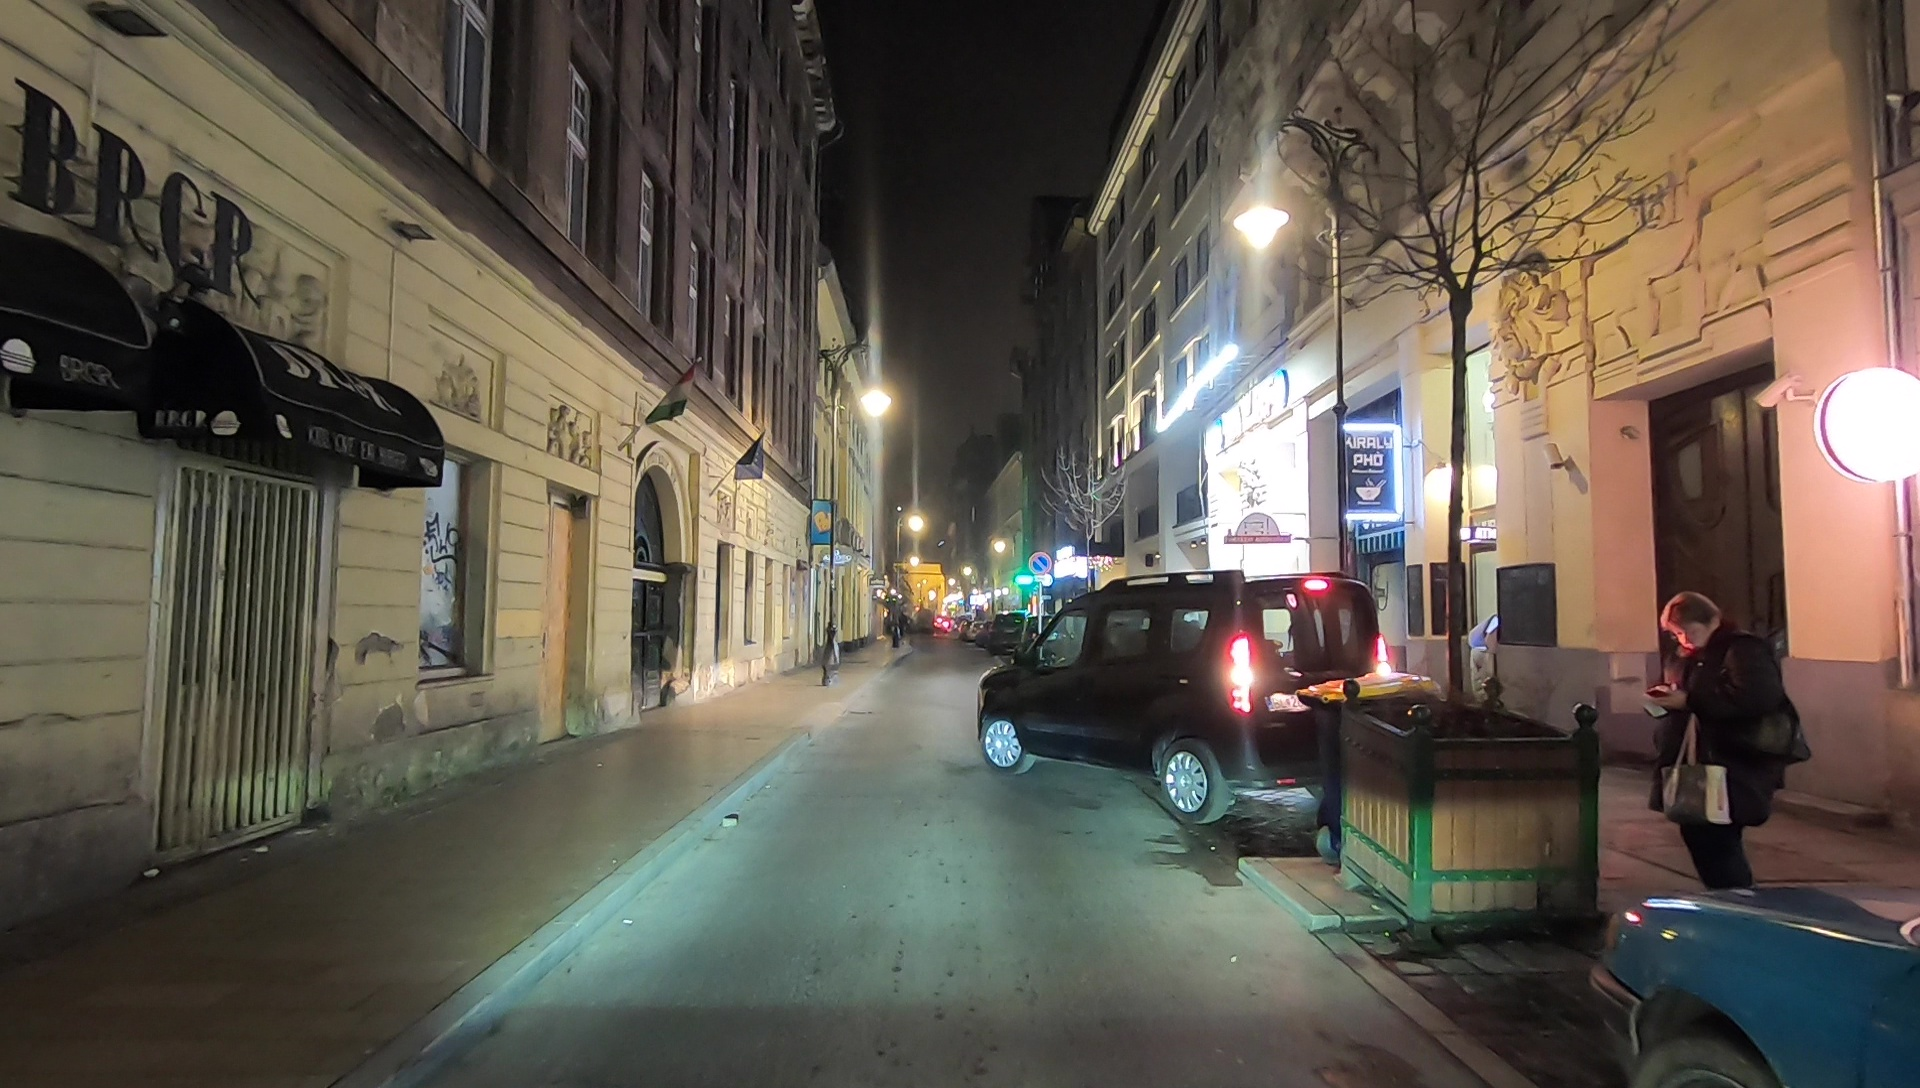person: (1643, 582, 1789, 913)
